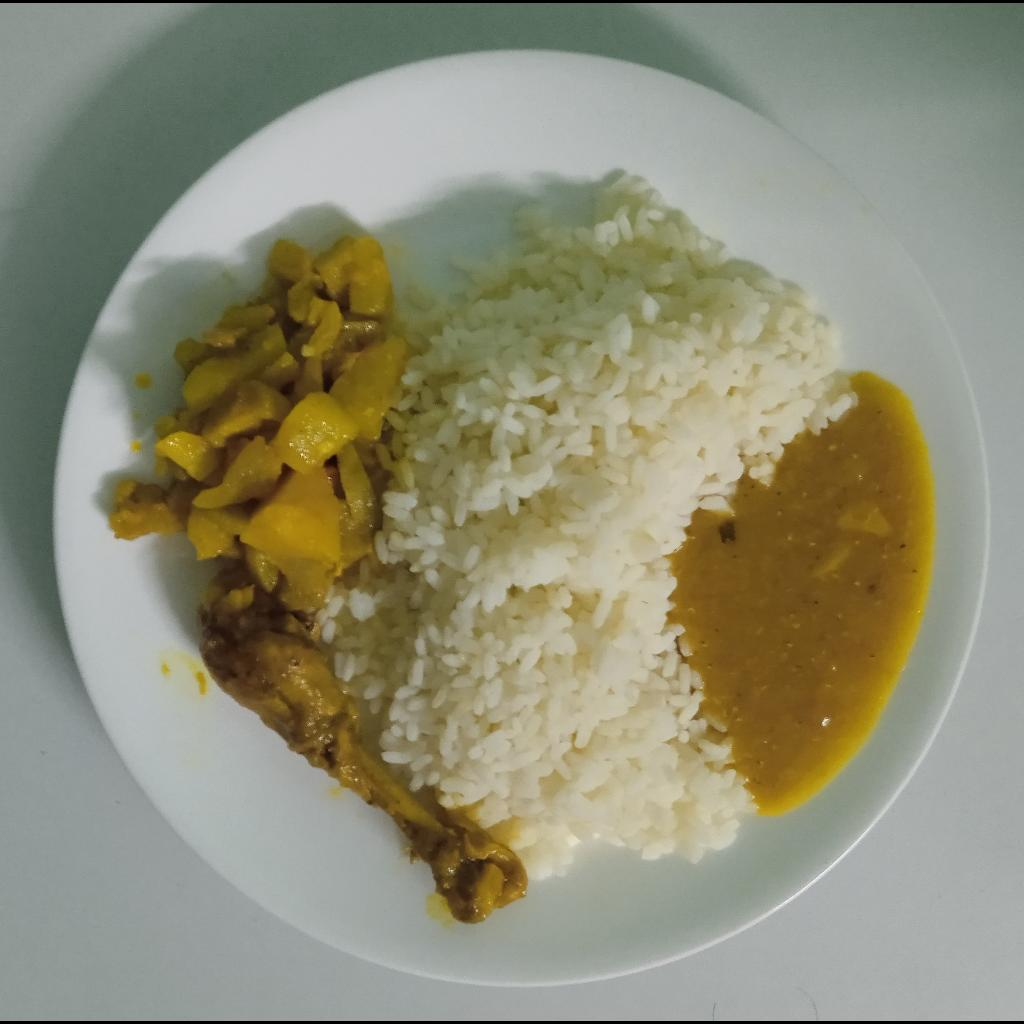chicken: (192, 580, 532, 920)
daal: (670, 372, 936, 815)
lau: (110, 228, 416, 623)
rice: (308, 171, 856, 891)
